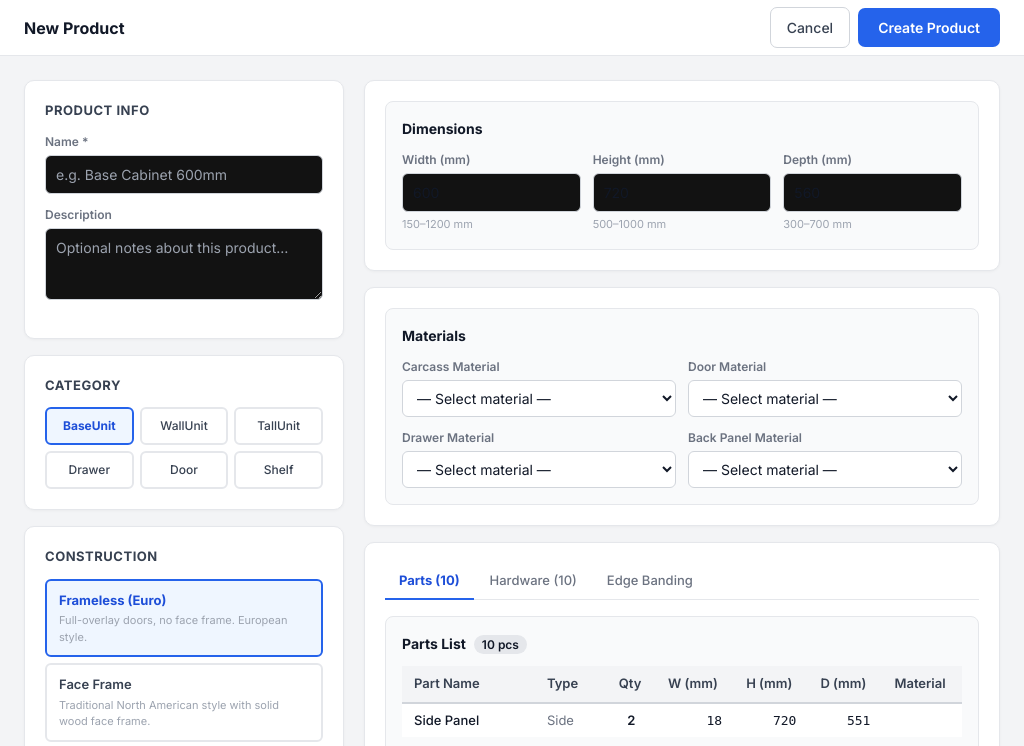
ProductEditor — save flow › shows success toast after save
The width and height of the screenshot is (1024, 746).
In the field with test id "input-name": (184,174) [45,154,323,194], type "My Cabinet"
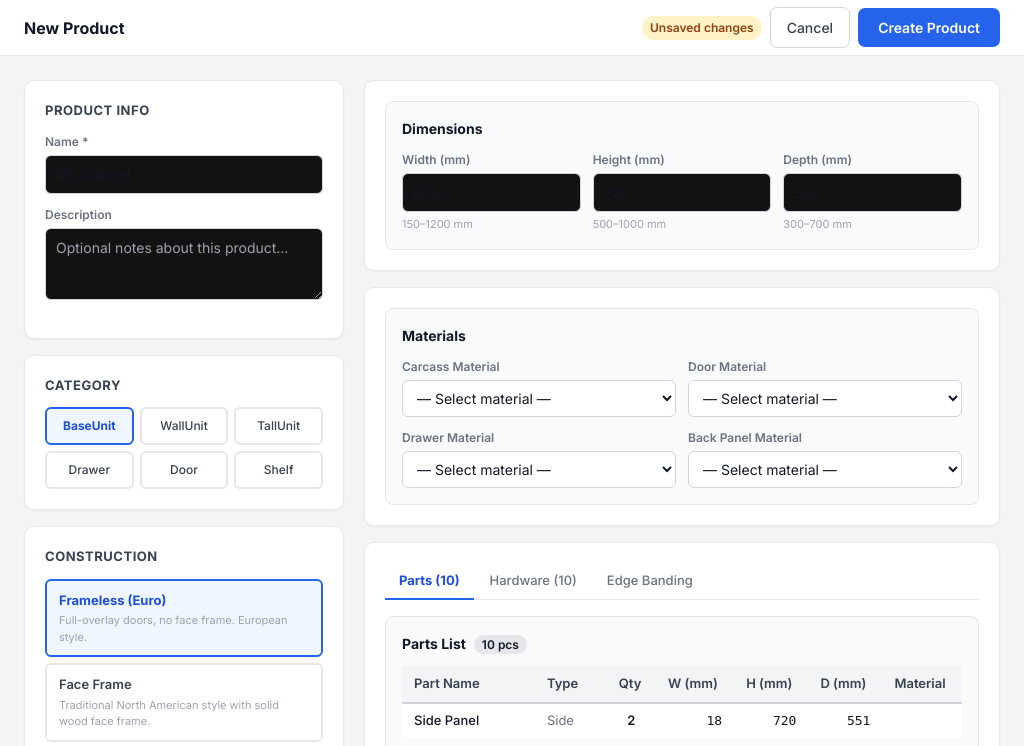
Select "MDF 18mm (18mm)" in the dropdown labelled "Carcass Material": (539,398) [402,380,676,416]
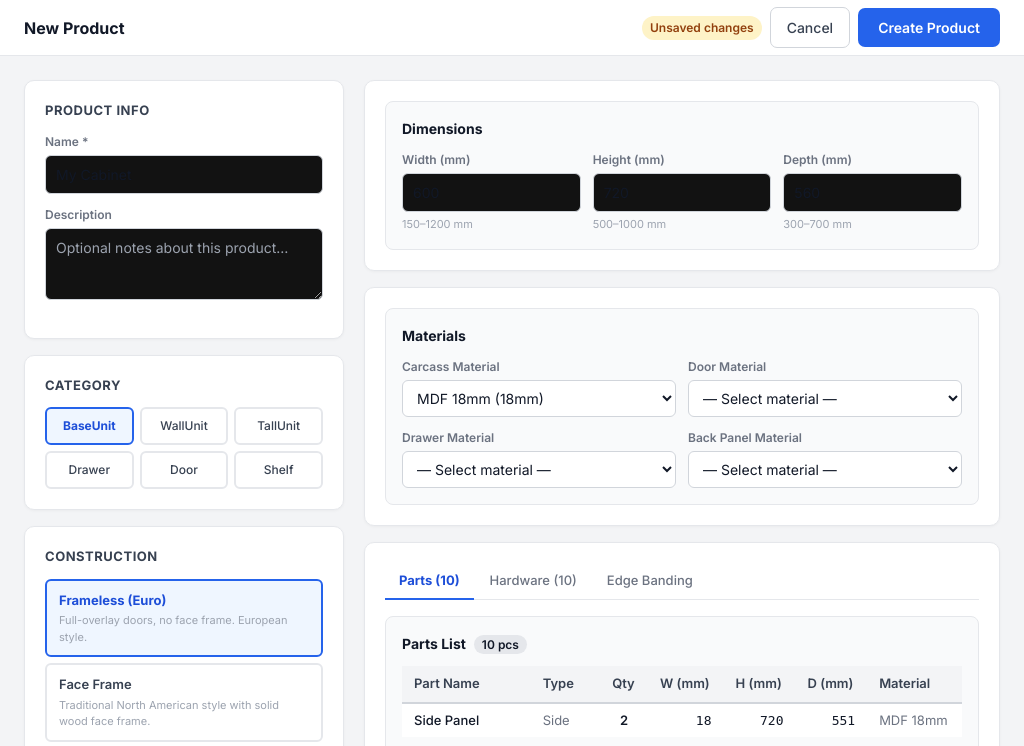
Select "MDF 18mm (18mm)" in the dropdown labelled "Door Material": (825,398) [688,380,962,416]
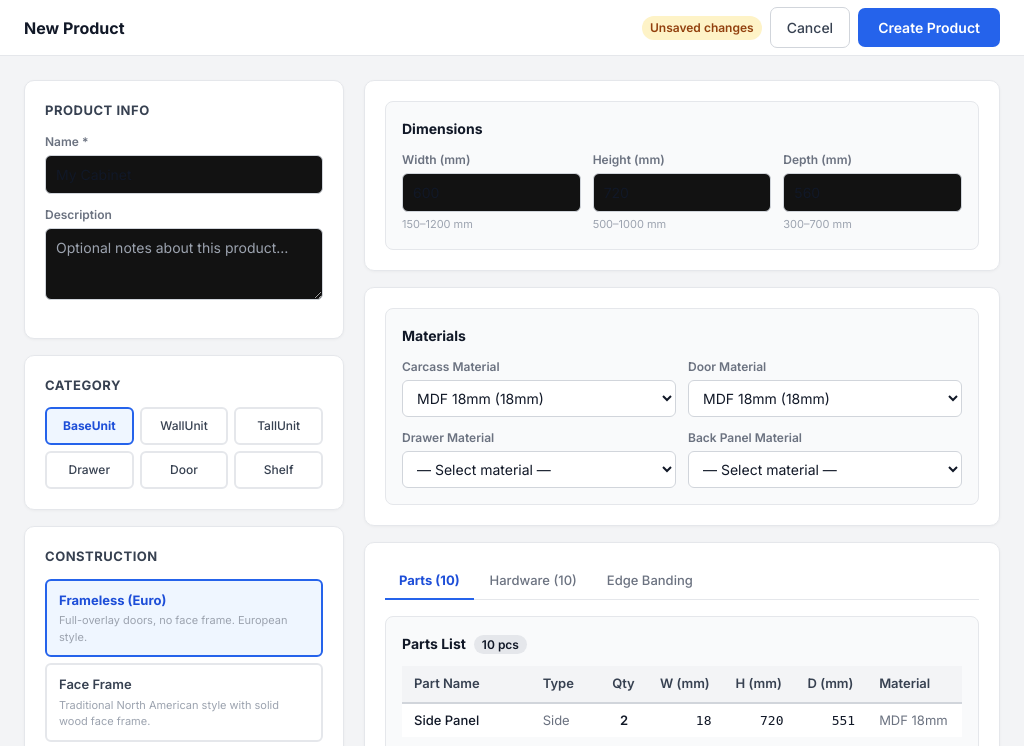
Select "MDF 18mm (18mm)" in the dropdown labelled "Drawer Material": (539,469) [402,450,676,488]
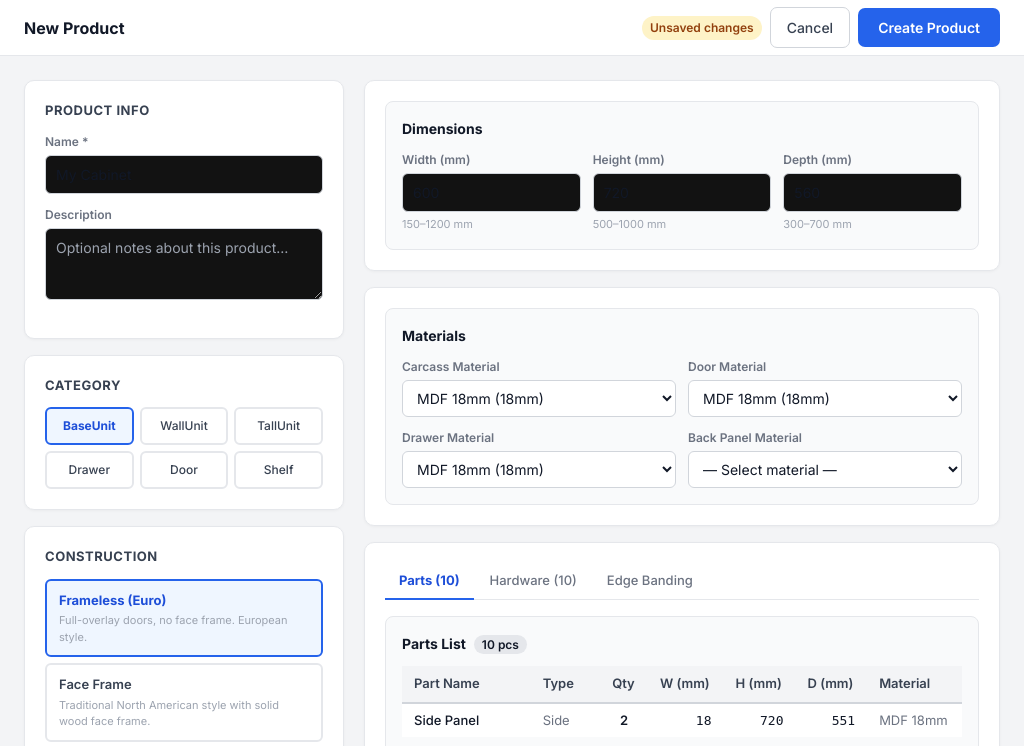
Select "MDF 18mm (18mm)" in the dropdown labelled "Back Panel Material": (825,469) [688,450,962,488]
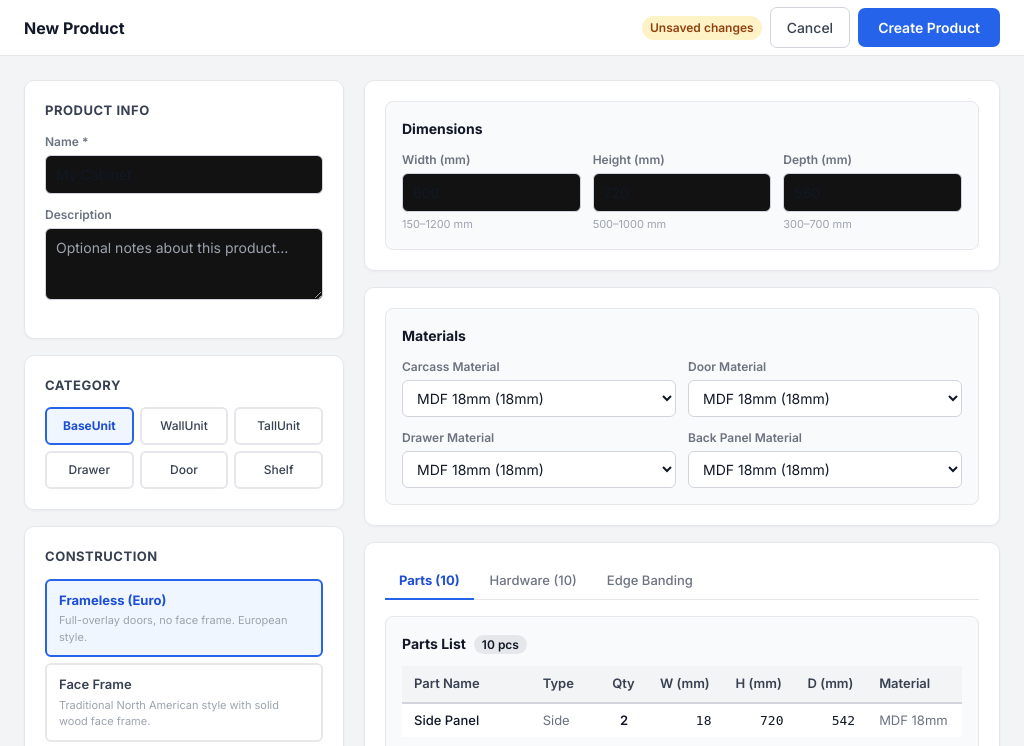
Click the button with test id "btn-save": (929,28) [858,8,1000,47]
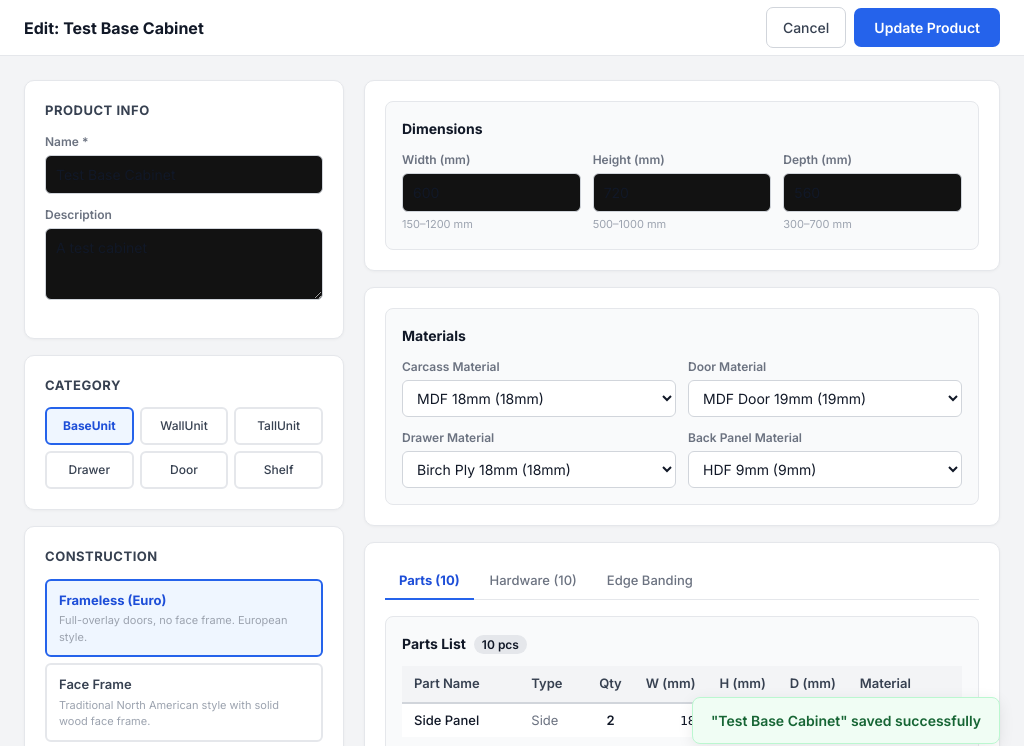
Expected: the message shows "saved successfully", [711,712,981,729]
